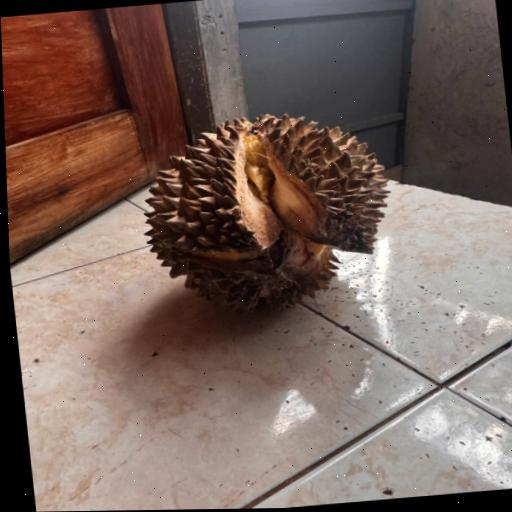rot: (127, 89, 417, 324)
